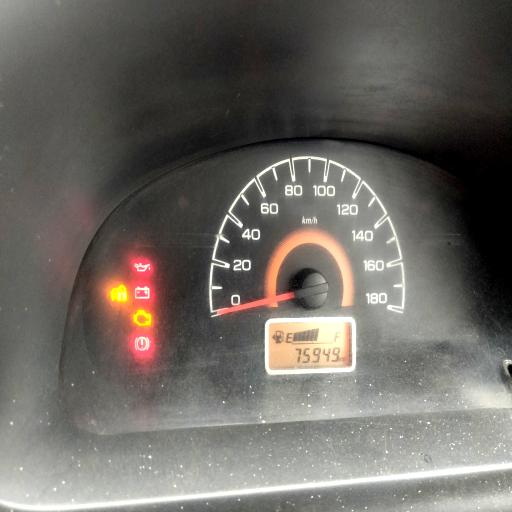brake_system_fault: (133, 335, 150, 351)
check_engine: (133, 310, 151, 326)
oil: (135, 260, 151, 272)
vehicle_charging: (134, 285, 150, 301)
